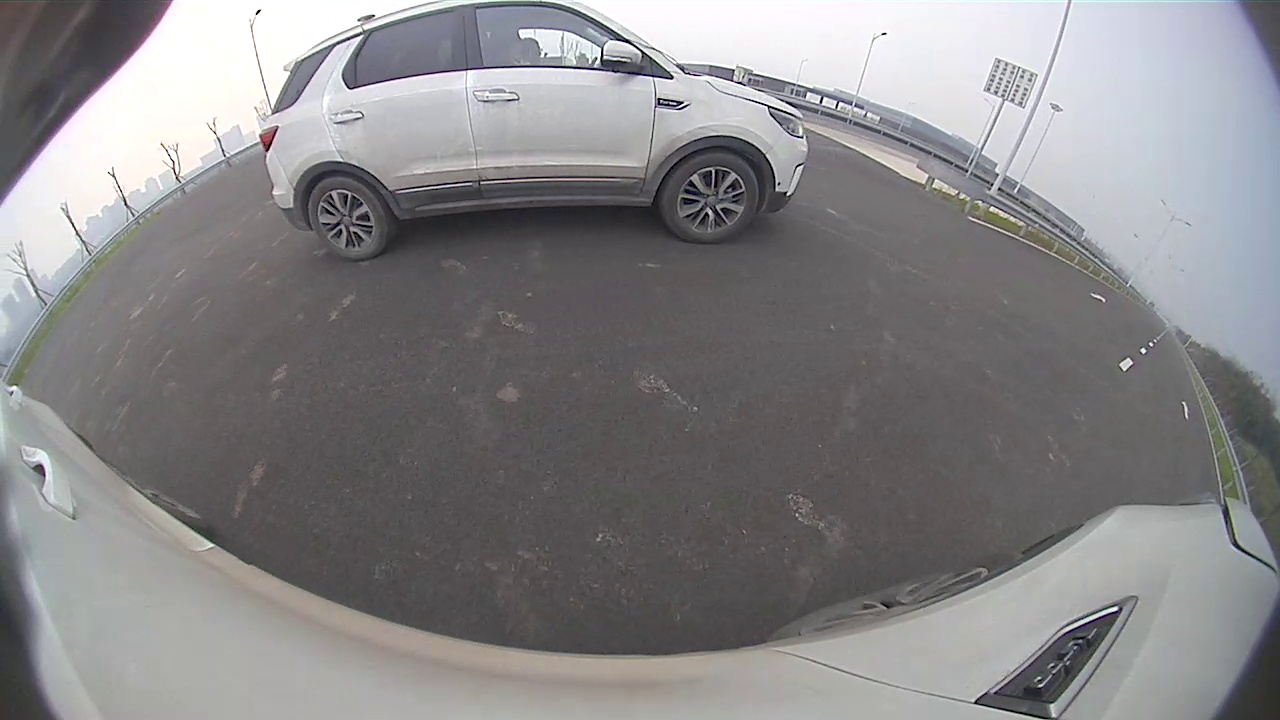car: (262, 1, 811, 259)
front: (662, 150, 759, 244)
rear: (307, 179, 386, 259)
